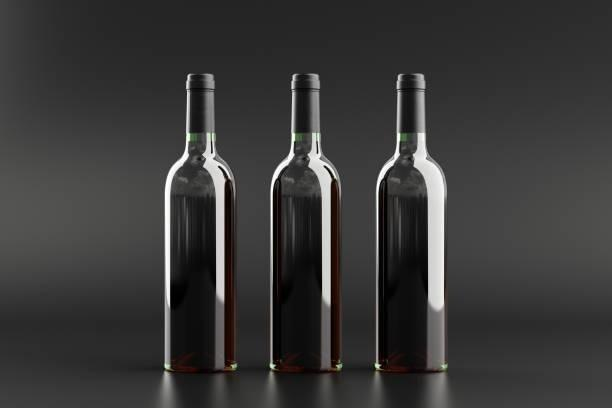bottle-glass: (265, 68, 347, 377), (371, 68, 452, 377), (161, 69, 241, 377)
